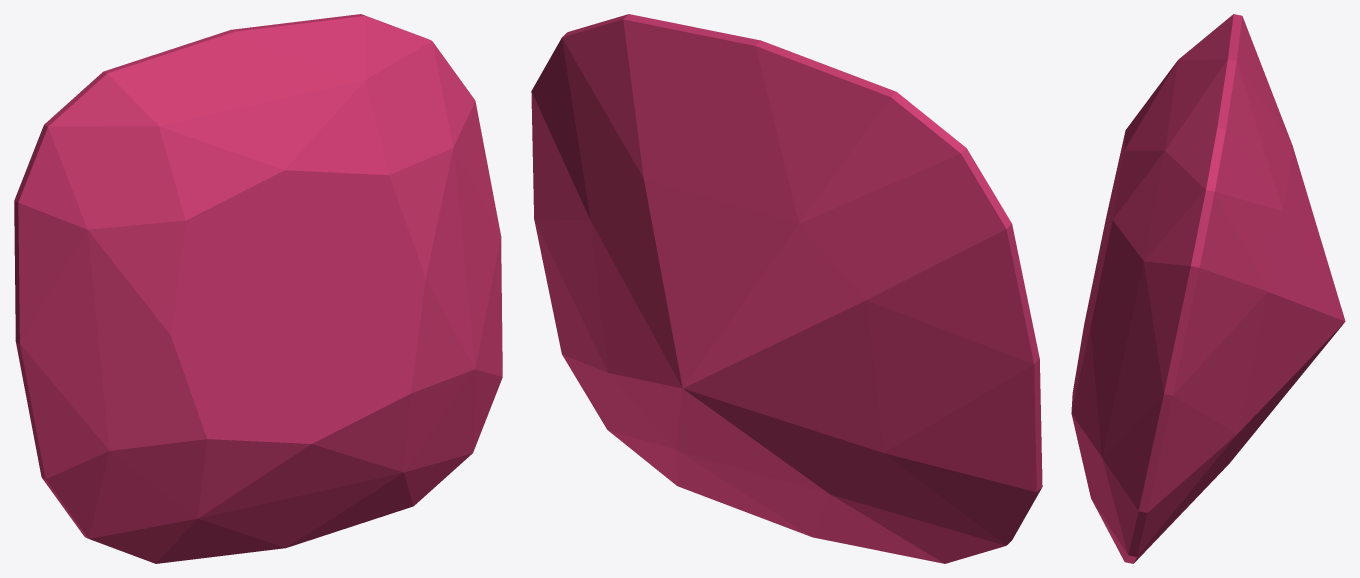
File: spinel.glb
The picture shows the model from 3 angles, left to right: view 1: azimuth 30°, elevation 25°; view 2: azimuth 150°, elevation 25°; view 3: azimuth 270°, elevation 25°; orthographic projection. The views are drawn at different scales.
Parts seen in each view (by area): view 1: spinel; view 2: spinel; view 3: spinel.
Part boxes in pixels (x1,y1,x2,y2): spinel: [14, 14, 502, 563]; spinel: [531, 14, 1042, 563]; spinel: [1071, 14, 1345, 563].
Size of the model in its own units: 2.3 by 2.27 by 1.23.
